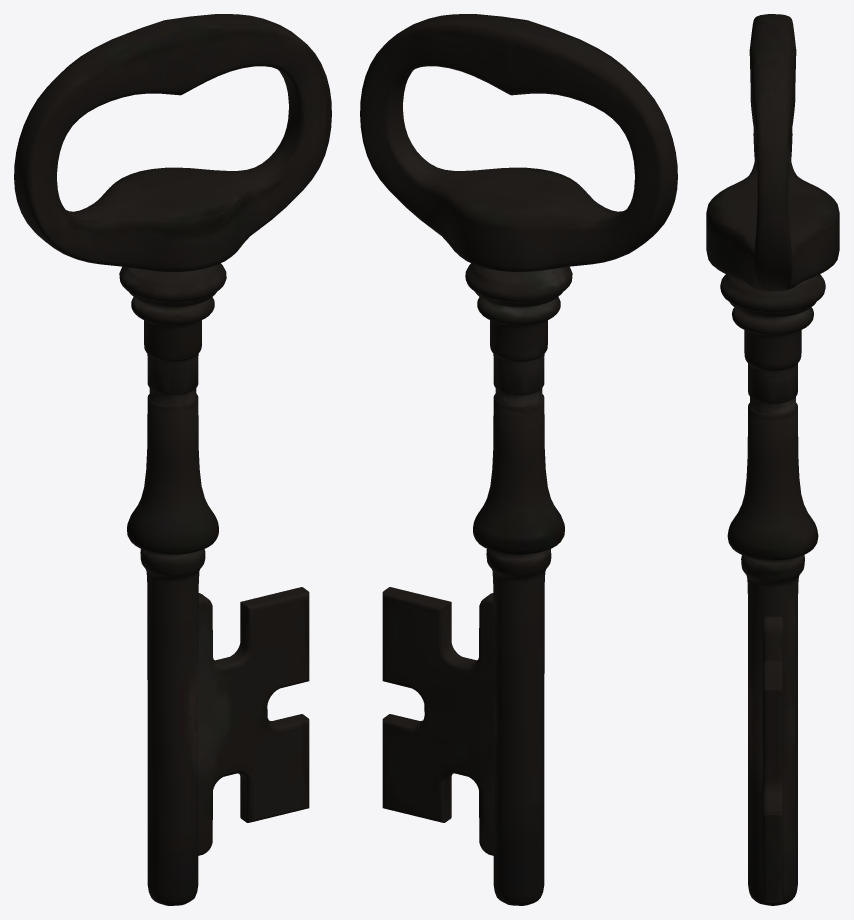
The model's file is vict_key.glb.
3 renders of one model, left to right at view 1: azimuth 30°, elevation 25°; view 2: azimuth 150°, elevation 25°; view 3: azimuth 270°, elevation 25°, orthographic.
Visible parts, largest first — view 1: Object_2; view 2: Object_2; view 3: Object_2.
Boxes of the visible parts, left/top/right/bottom form: Object_2: left=14, top=14, right=331, bottom=905; Object_2: left=360, top=14, right=677, bottom=905; Object_2: left=706, top=14, right=839, bottom=905.
Size of the model in its own units: 0.033 by 0.09 by 0.0127.
Materials: 1 (1 with a texture image).
